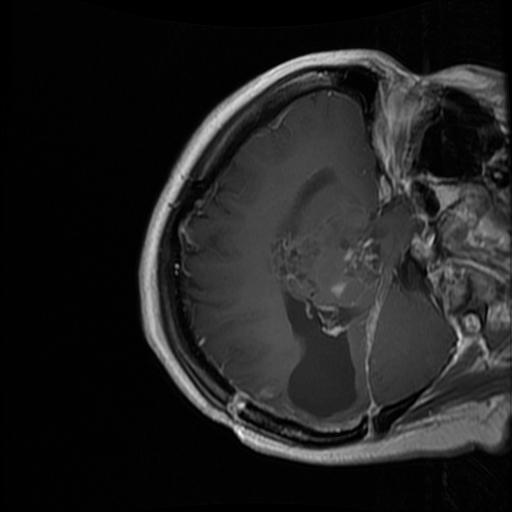glioma: (267, 235, 359, 419)
